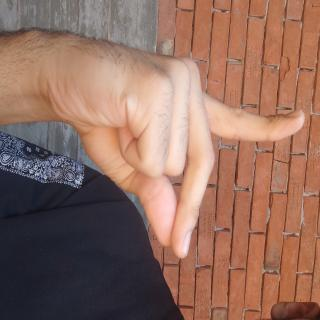TAA: (12, 9, 197, 320)
